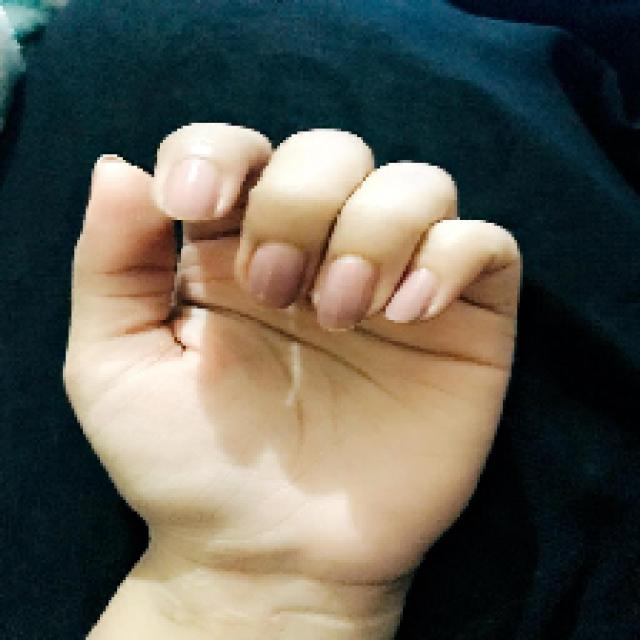Nail: (312, 254, 378, 330), (248, 242, 306, 308), (165, 158, 220, 219), (385, 268, 438, 322)
